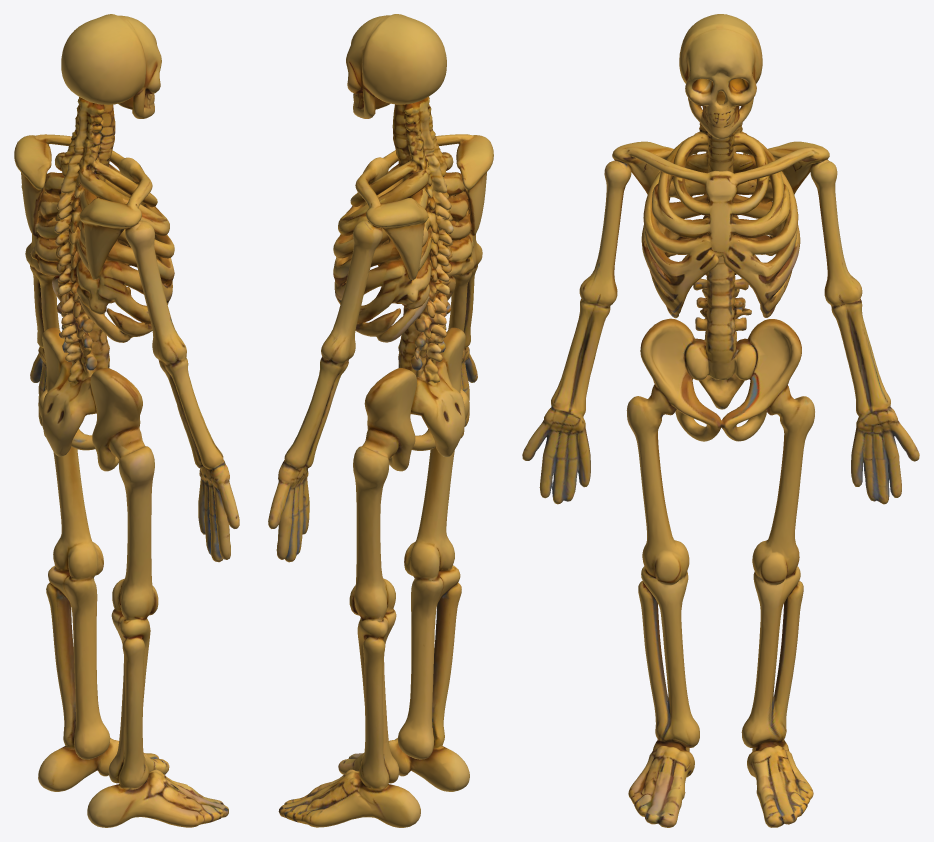
3 renders of one model, left to right at view 1: azimuth 30°, elevation 25°; view 2: azimuth 150°, elevation 25°; view 3: azimuth 270°, elevation 25°, orthographic. The views are drawn at different scales.
Visible parts, largest first — view 1: tripo_node_6e3c92d9-b1f3-4464-addb-01c526a5a00f; view 2: tripo_node_6e3c92d9-b1f3-4464-addb-01c526a5a00f; view 3: tripo_node_6e3c92d9-b1f3-4464-addb-01c526a5a00f.
Boxes of the visible parts, <box> form: tripo_node_6e3c92d9-b1f3-4464-addb-01c526a5a00f: <box>14,14,239,827</box>; tripo_node_6e3c92d9-b1f3-4464-addb-01c526a5a00f: <box>268,14,493,827</box>; tripo_node_6e3c92d9-b1f3-4464-addb-01c526a5a00f: <box>522,14,919,827</box>.
Size of the model in its own units: 0.1931 by 0.9999 by 0.4671.
Materials: 1 (1 with a texture image).
